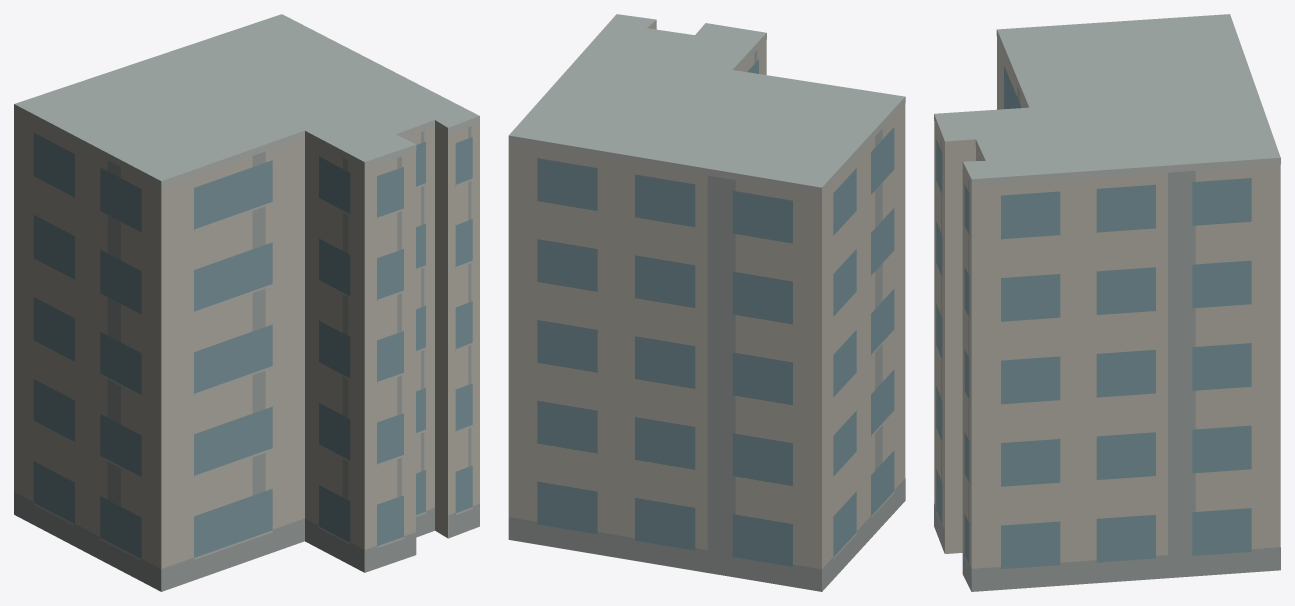
Rendered from survey-upis-32561643.glb.
The picture shows the model from 3 angles, left to right: view 1: azimuth 30°, elevation 25°; view 2: azimuth 150°, elevation 25°; view 3: azimuth 270°, elevation 25°; orthographic projection. The views are drawn at different scales.
Visible parts, largest first — view 1: survey-upis-32561643.tmp; view 2: survey-upis-32561643.tmp; view 3: survey-upis-32561643.tmp.
Boxes of the visible parts, box(x1,y1,x2,y2) form: survey-upis-32561643.tmp: box(14, 14, 479, 591); survey-upis-32561643.tmp: box(508, 14, 905, 591); survey-upis-32561643.tmp: box(934, 14, 1280, 591).
Bounding box in the file's own units: 12.3 × 14.3 × 10.9.
